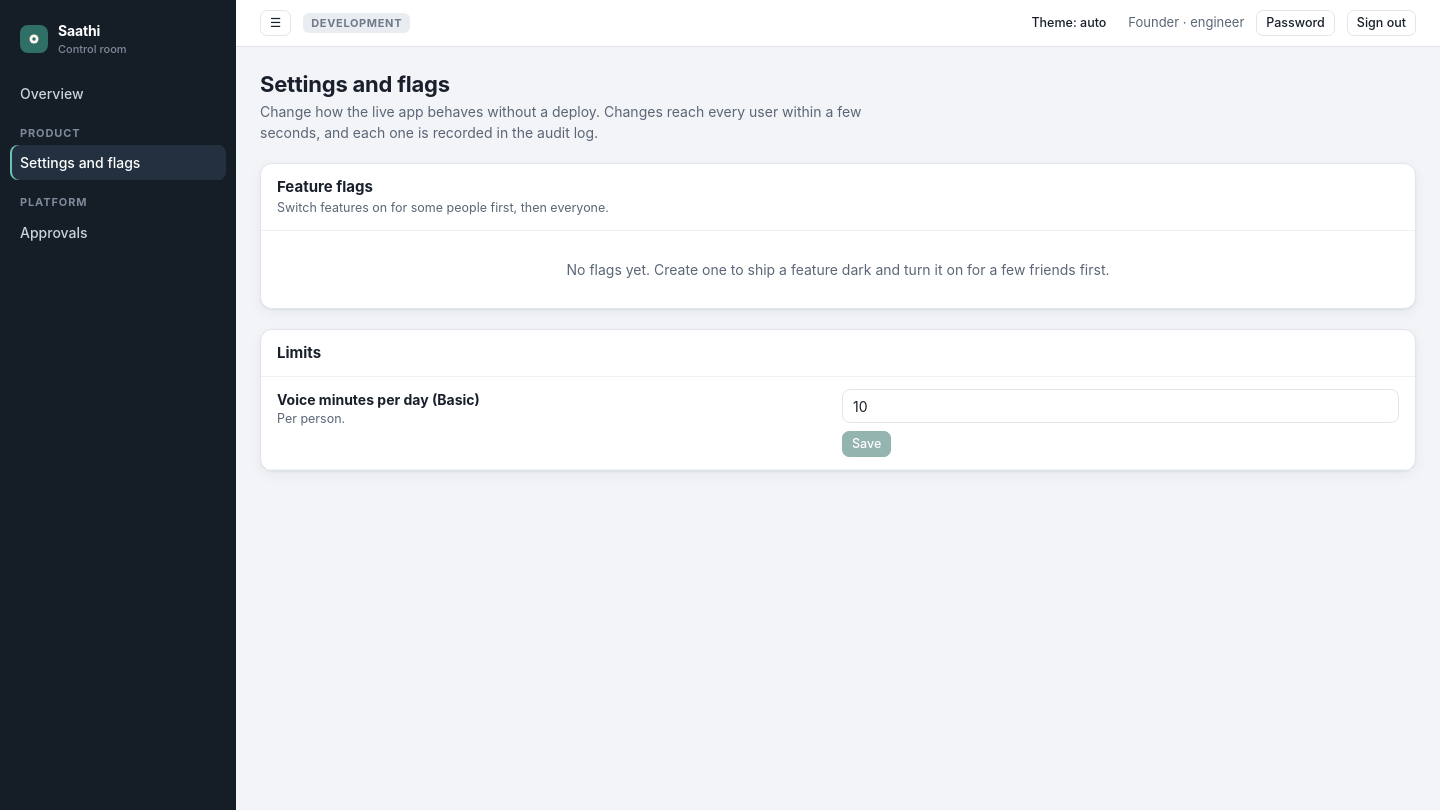
Scenario: approvals › tells an engineer their change is waiting instead of claiming it was saved
The width and height of the screenshot is (1440, 810).
Replace the text in the field named "Voice minutes per day (Basic)" with "15" at (1120, 406), box [842,389,1399,423]
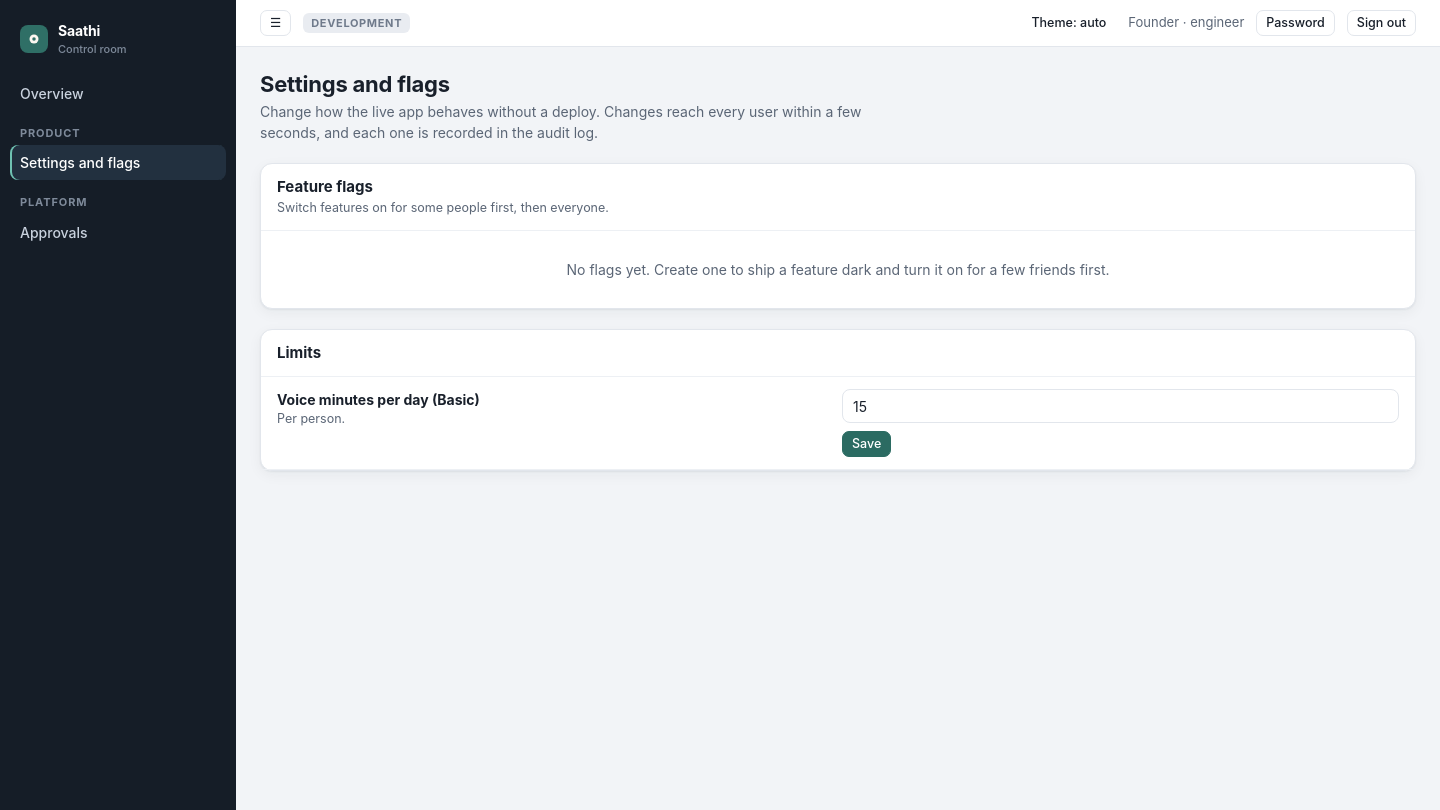
Click the button "Save" at (867, 444), box [842,431,891,457]
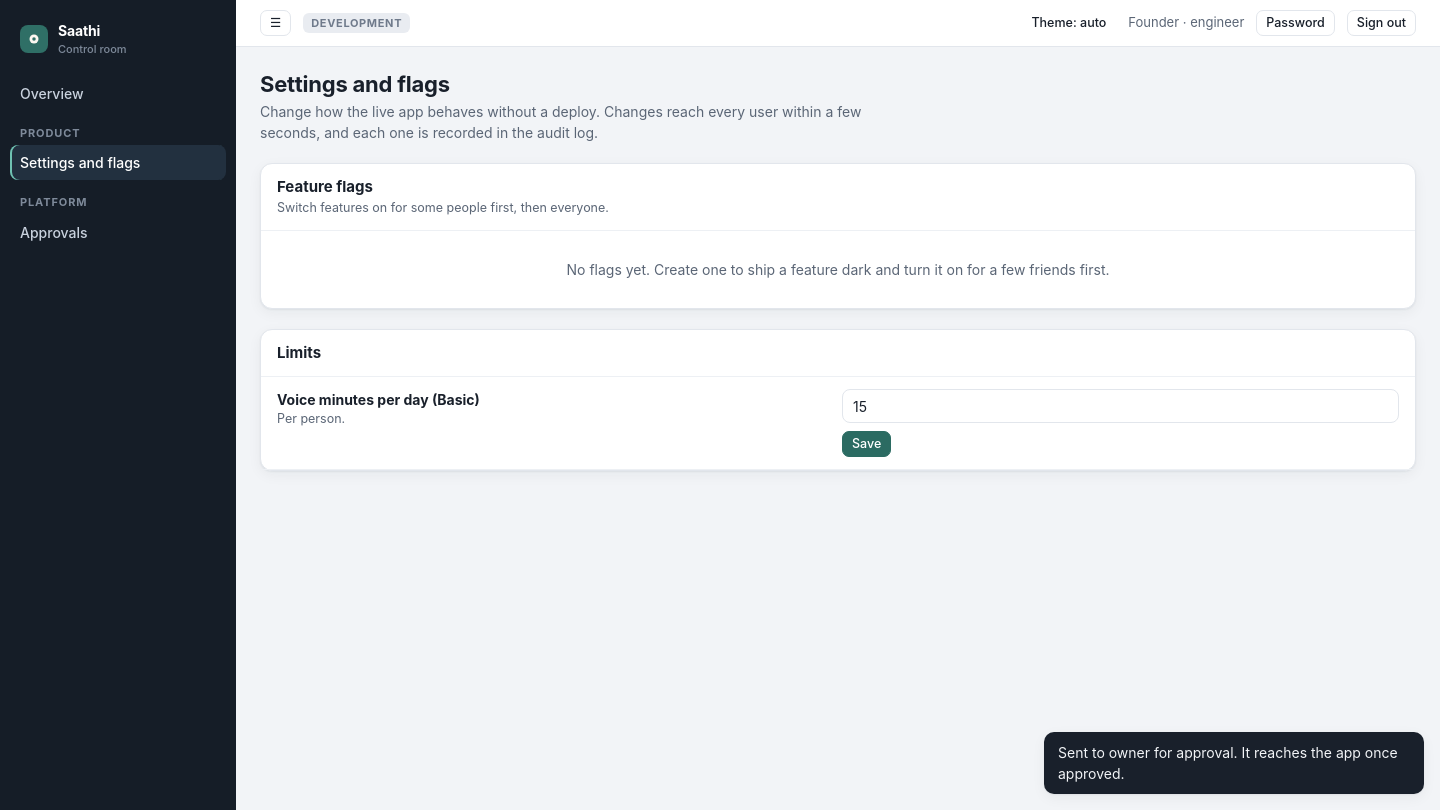
expect the text "Sent to owner for approval. It reaches the app once approved." is shown: met, box [1044,732,1424,794]
